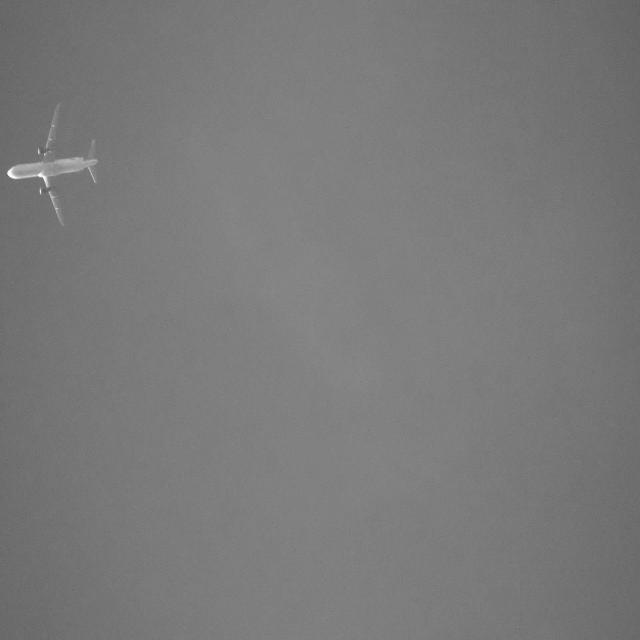aeroplane: (8, 104, 102, 237)
